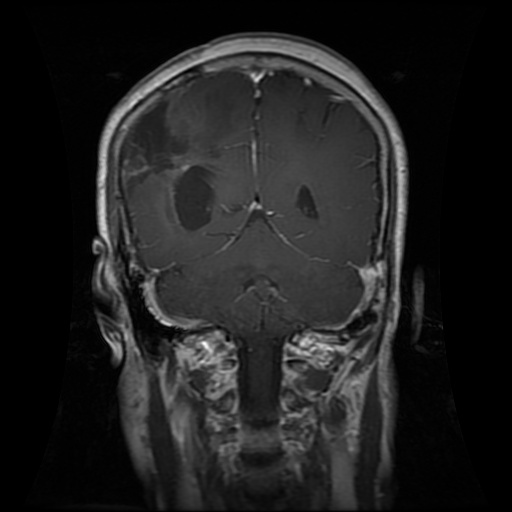glioma: (116, 83, 219, 233)
